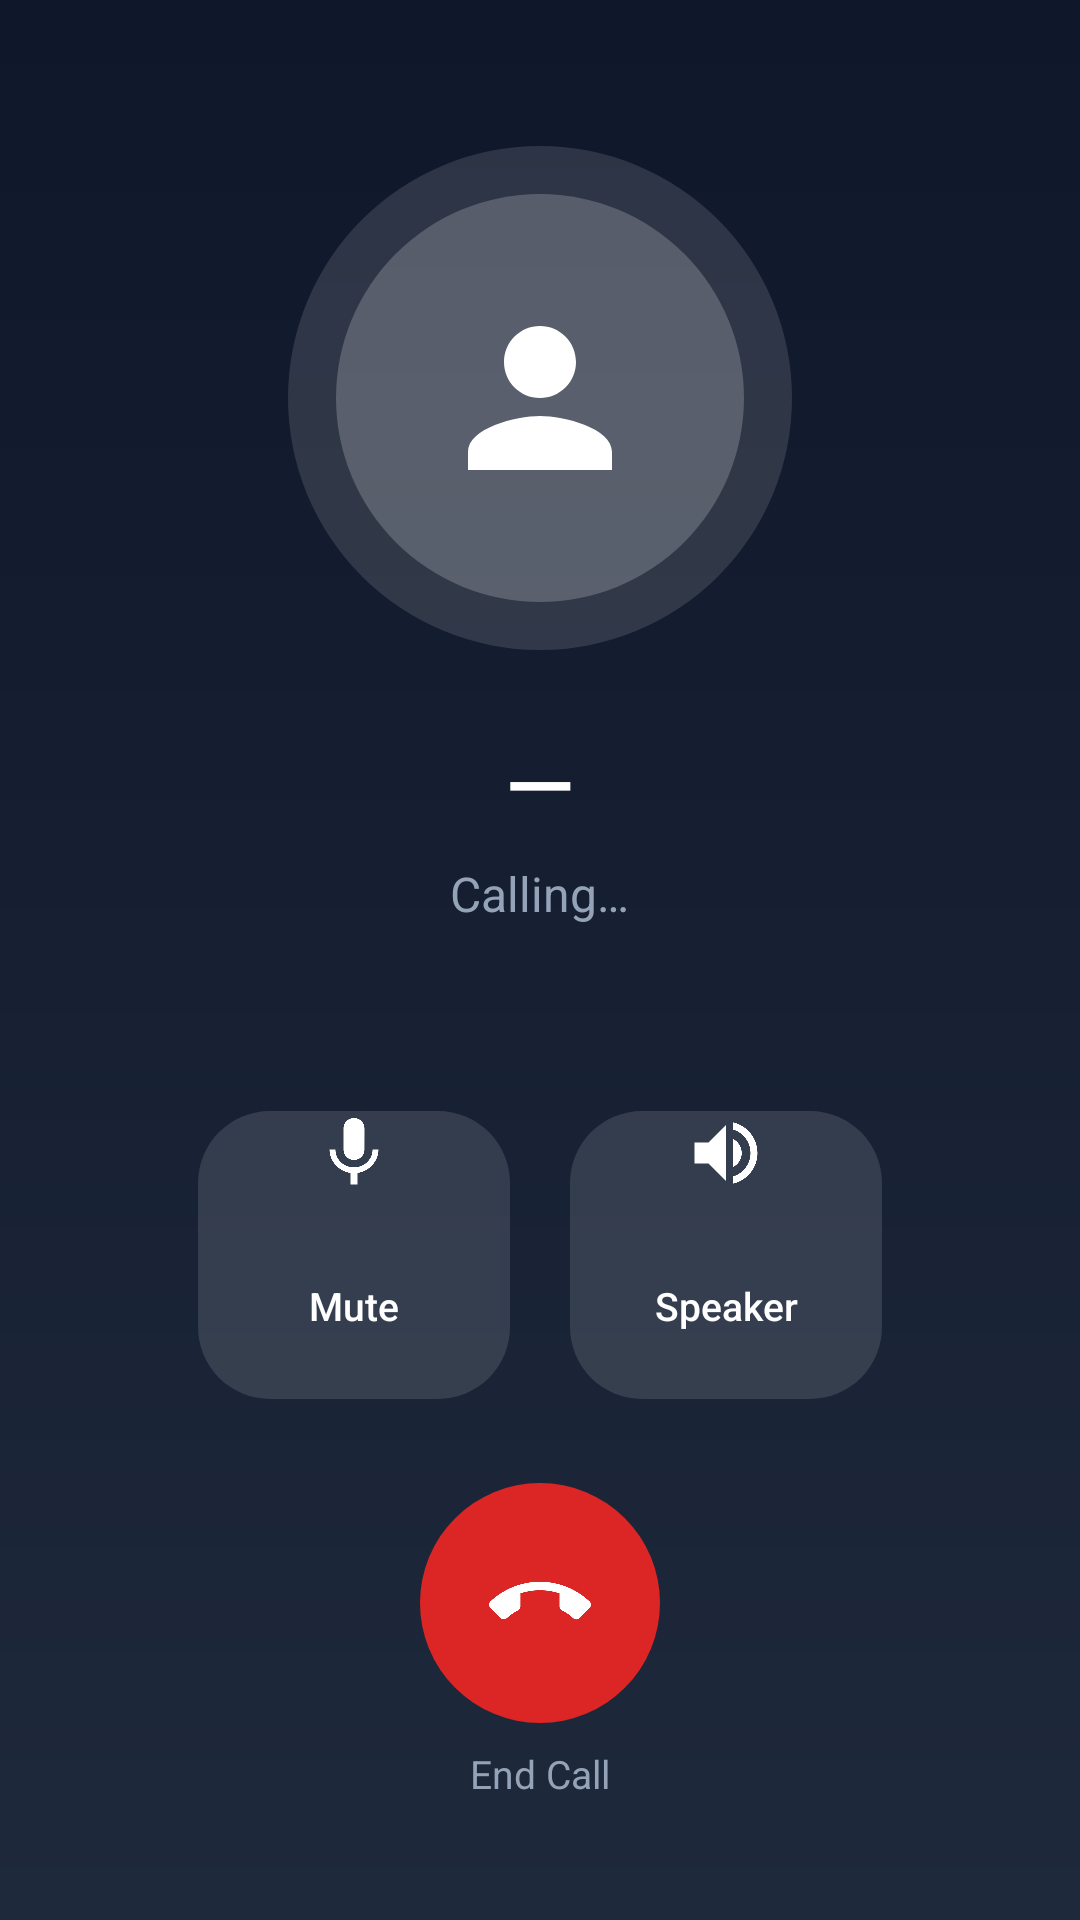

Named icons in this screenshot (1080 x 1920) and their bounding boxes, (x1, y1, x2, y2):
person: (468, 326, 612, 470)
